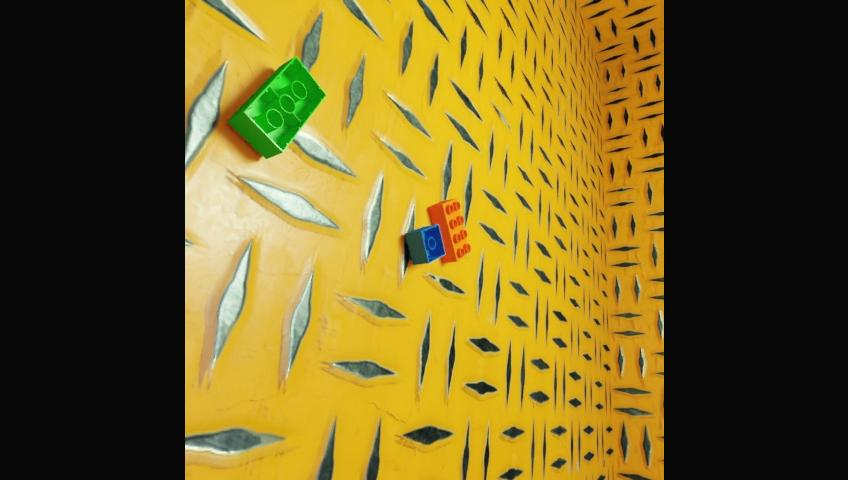2x2_blue: (405, 224, 445, 264)
4x2_green: (227, 56, 327, 158)
4x2_orange: (428, 198, 471, 262)
